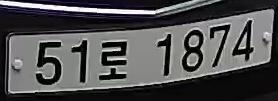1: (69, 37, 96, 86), (153, 32, 178, 78)
4: (232, 17, 258, 63)
5: (32, 38, 66, 88)
7: (208, 22, 231, 68)
8: (178, 27, 208, 73)
로: (97, 38, 132, 84)
